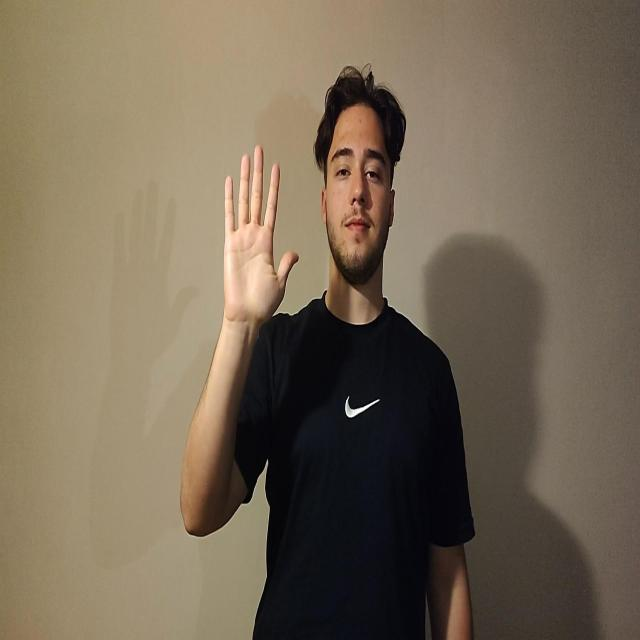hello: (222, 143, 299, 330)
